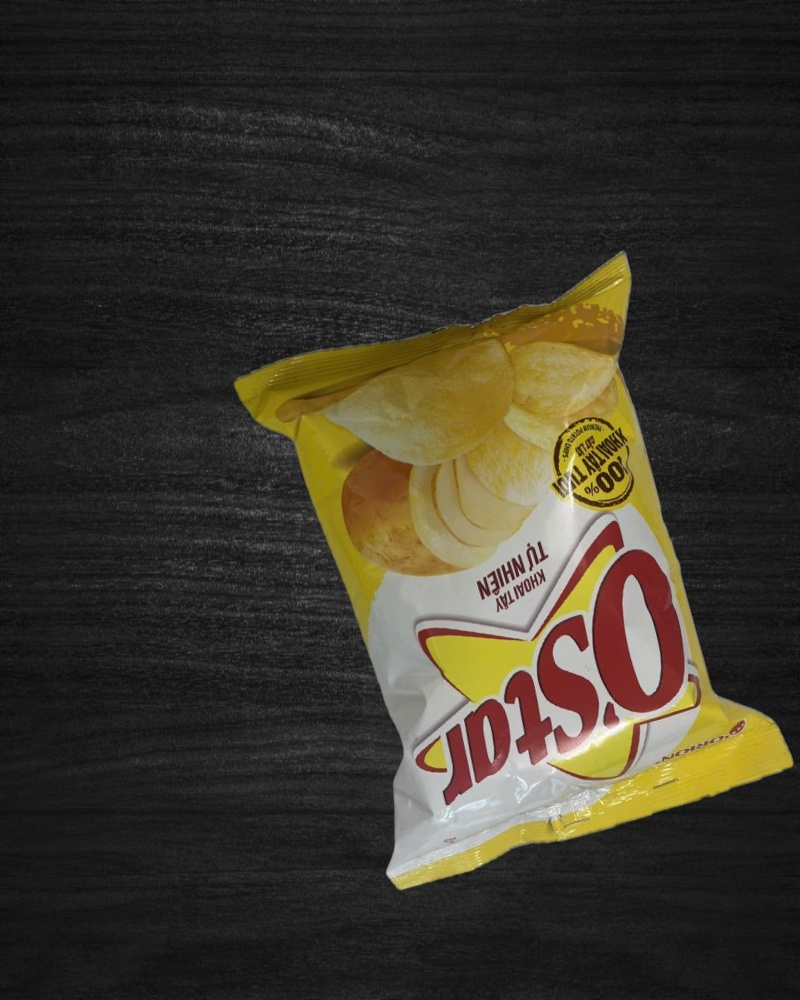Snack cua: (233, 249, 796, 891)
